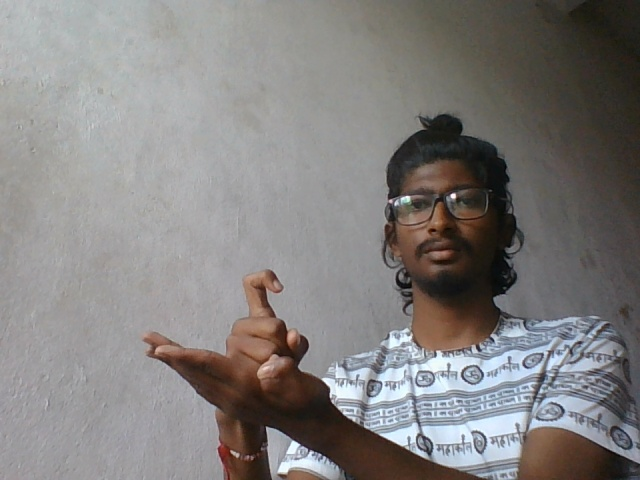No: (132, 263, 351, 443)
